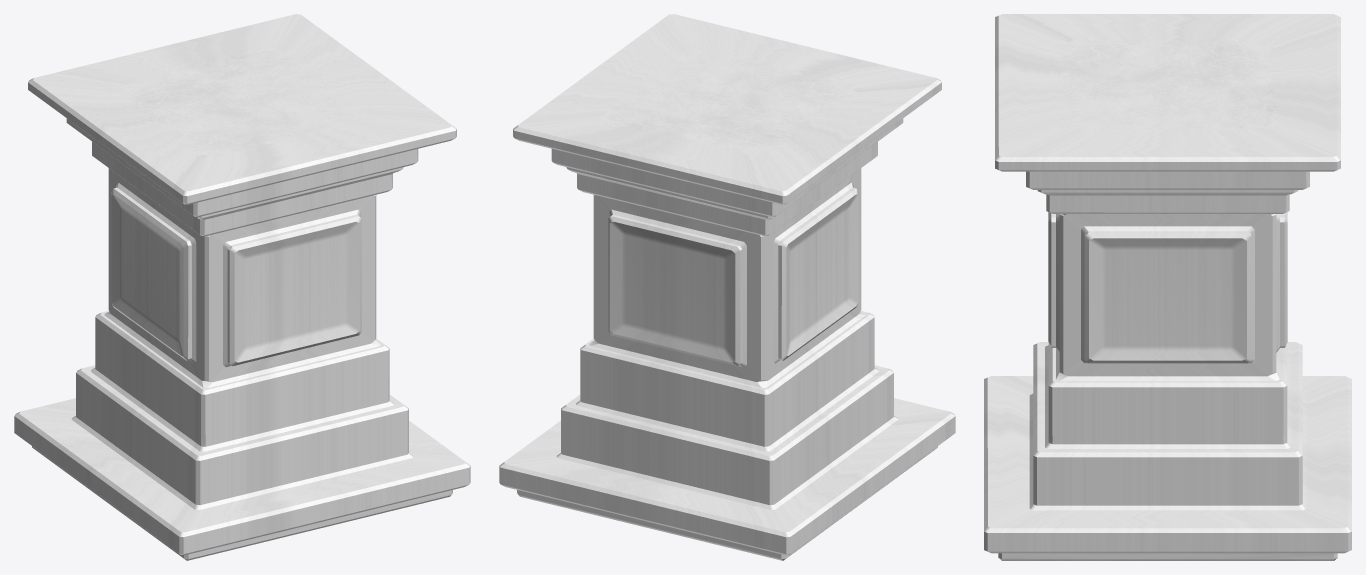
File: Pedestal.obj
3 views of the same model, side by side, from view 1: azimuth 30°, elevation 25°; view 2: azimuth 150°, elevation 25°; view 3: azimuth 270°, elevation 25° (orthographic). The views are drawn at different scales.
Parts seen in each view (by area): view 1: Pedestal; view 2: Pedestal; view 3: Pedestal.
Part boxes in pixels (x1=…): Pedestal: x1=14, y1=14, x2=470, y2=560; Pedestal: x1=499, y1=14, x2=955, y2=560; Pedestal: x1=984, y1=14, x2=1351, y2=560.
Bounding box in the file's own units: 9.4 × 11.43 × 9.4.
1 material, 1 textured.
